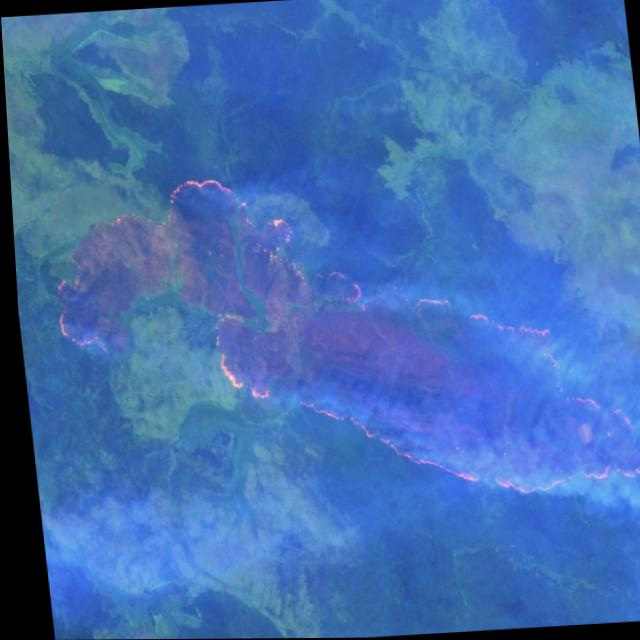fire: (7, 146, 640, 533)
